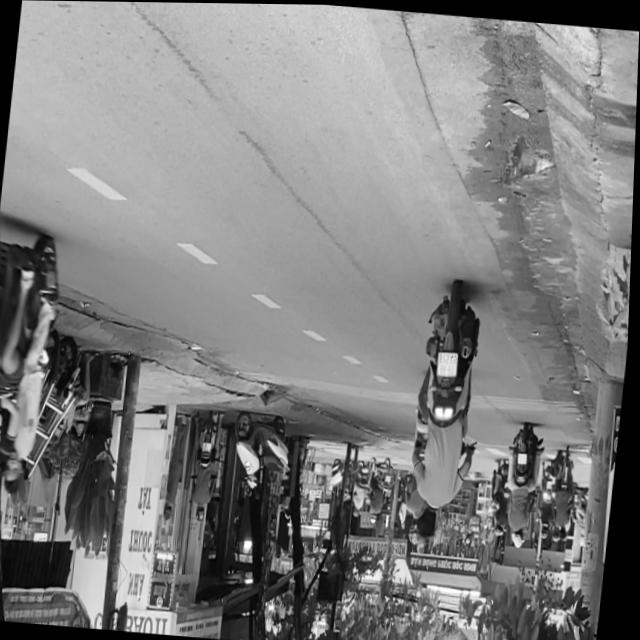helmet: (0, 459, 6, 512)
licenseplate: (402, 281, 492, 553), (0, 211, 74, 518)
motorcyclist: (417, 502, 443, 541), (4, 452, 27, 490)
nohelmet: (438, 351, 460, 376)
